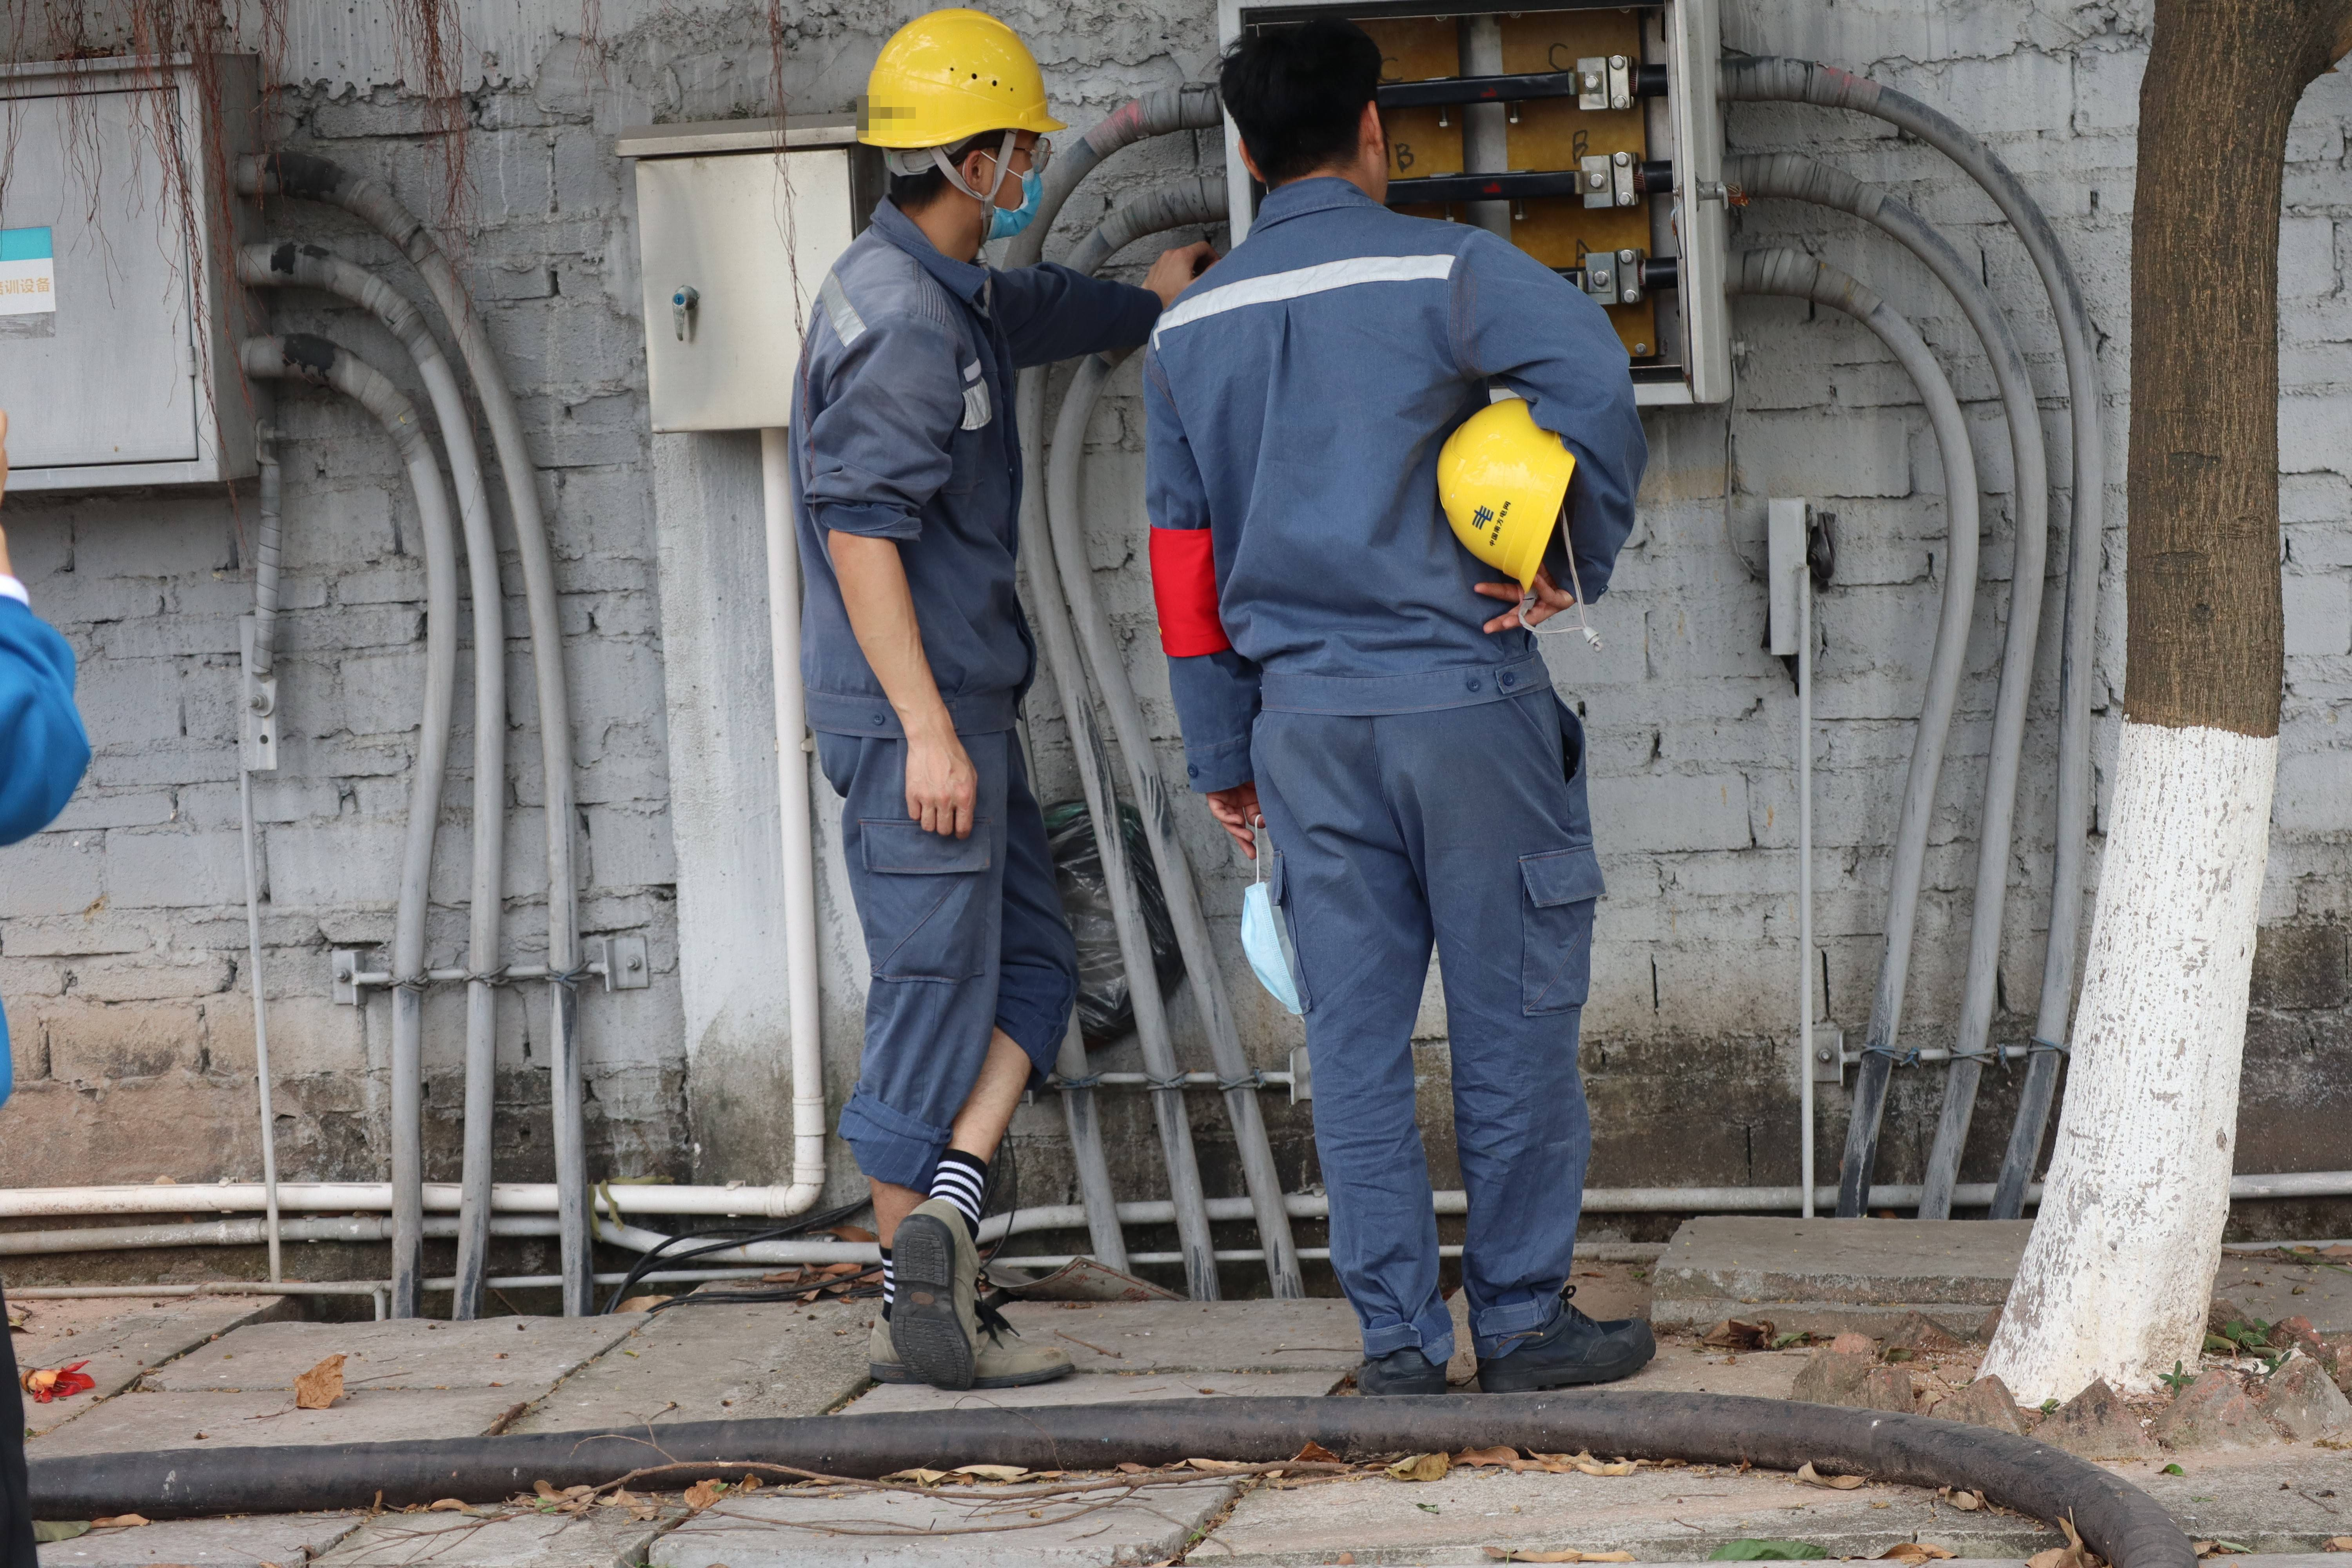downsuit: (1255, 719, 1603, 1325), (831, 742, 1066, 1190)
upsuit: (1162, 226, 1592, 709), (800, 250, 1022, 700)
wrongbottom: (955, 961, 1069, 1157), (843, 1115, 936, 1244)
wrongtop: (819, 450, 982, 824)
